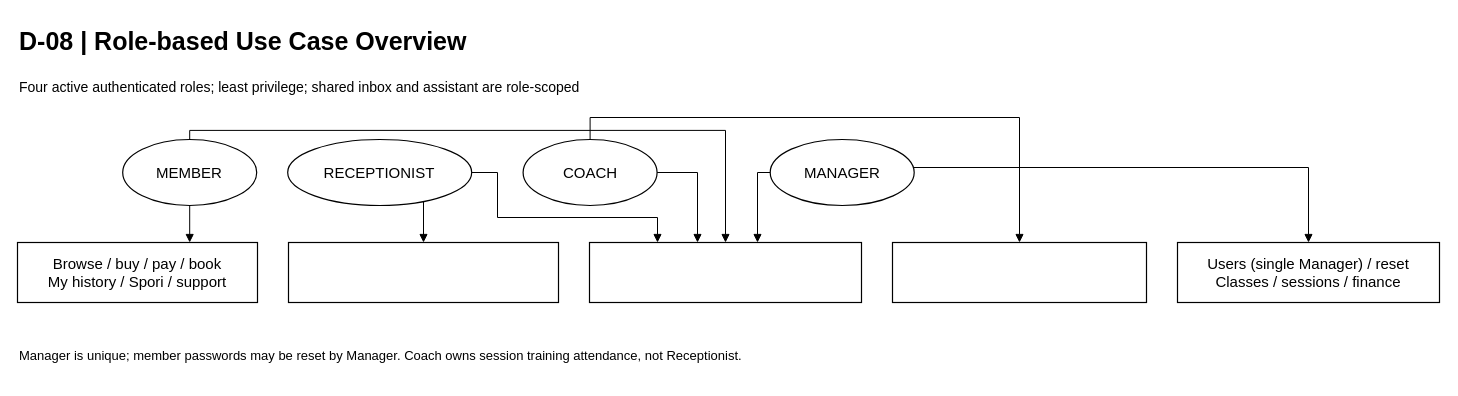
Image size: 1458x396. Some labels were removed from this diagram. Here are the shapes that lost their labels. From the top down, the centre of each, then its label:
At pixel 423 272: "Assisted booking / arrival Verify funds / refunds / support".
At pixel 725 272: "Shared capability Inbox • Theme • Avatar • Spori".
At pixel 1019 272: "Assigned roster / attendance Result / feedback / plan".
